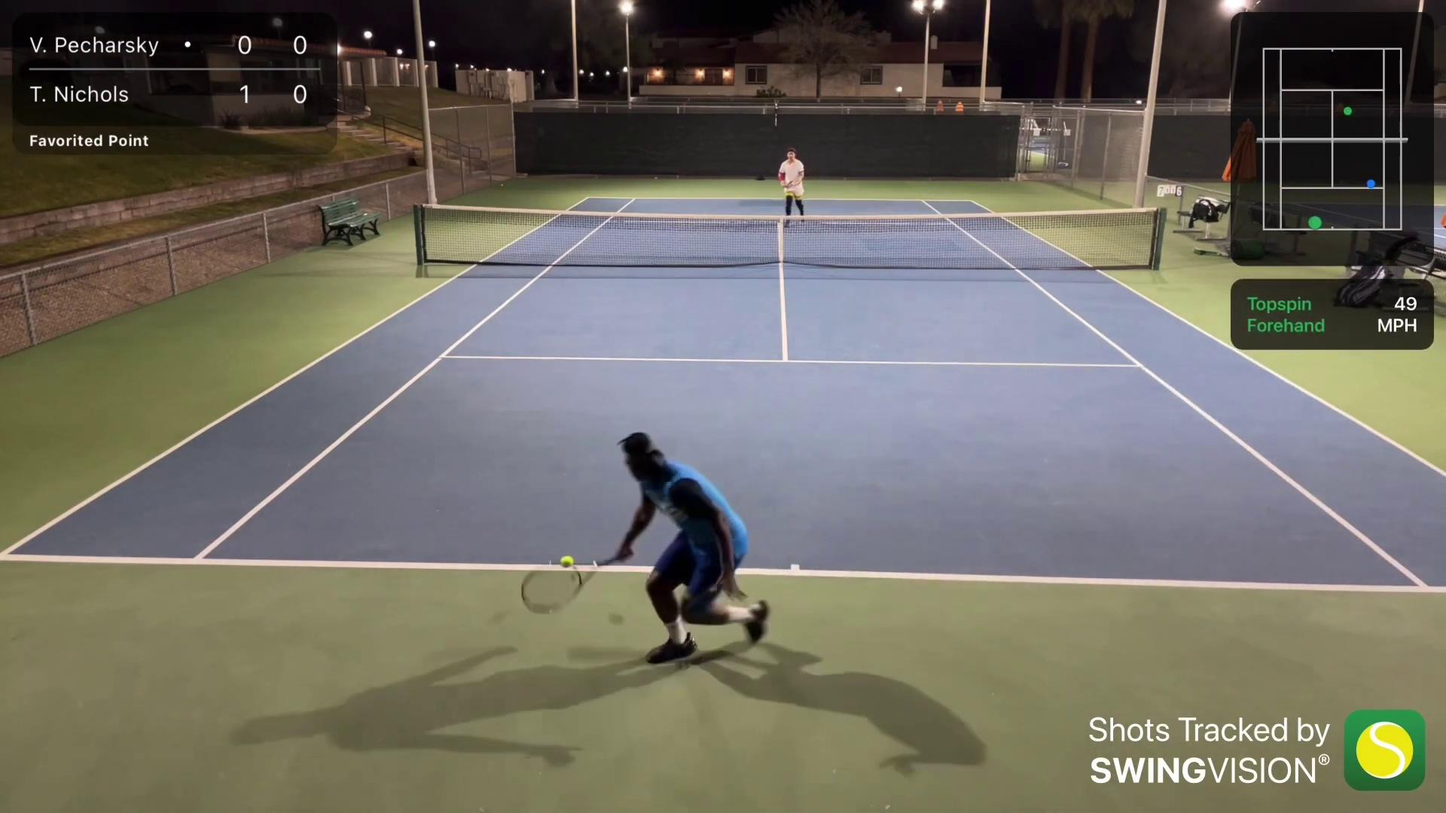ball: (555, 554, 580, 570)
